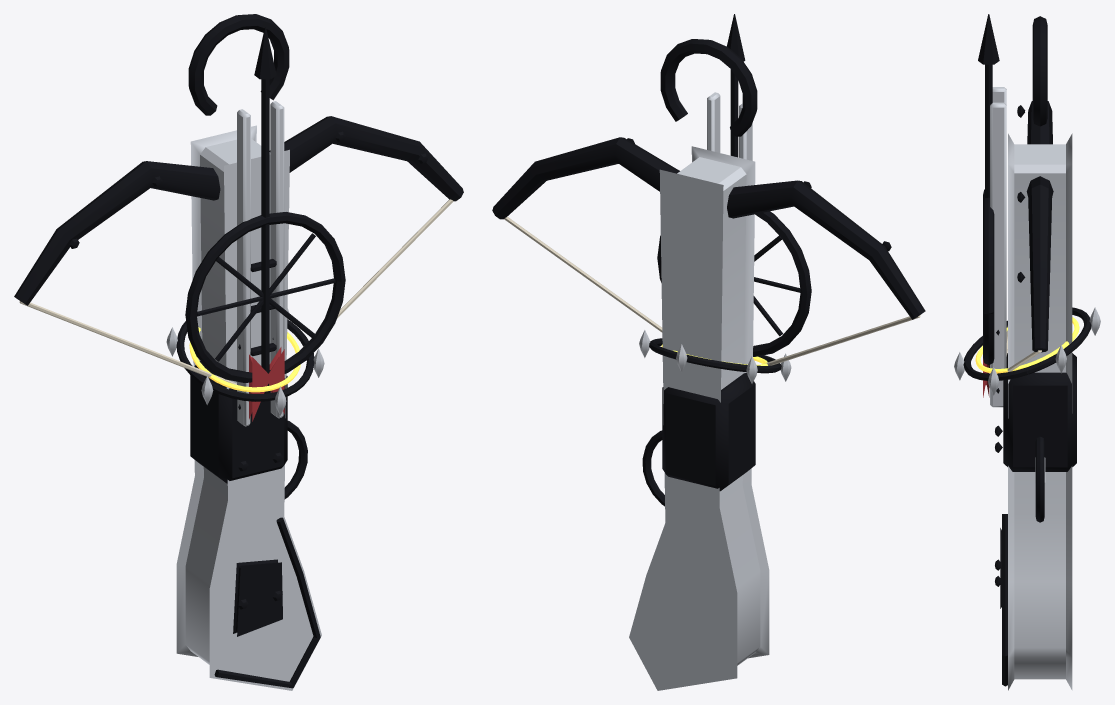
Rendered from esc_w_ranger_crossbow_6.glb.
3 renders of one model, left to right at view 1: azimuth 30°, elevation 25°; view 2: azimuth 150°, elevation 25°; view 3: azimuth 270°, elevation 25°, orthographic. The views are drawn at different scales.
Visible parts, largest first — view 1: esc_w_ranger_crossbow_6; view 2: esc_w_ranger_crossbow_6; view 3: esc_w_ranger_crossbow_6.
Part boxes in pixels (x1,y1,x2,y2): esc_w_ranger_crossbow_6: [14, 14, 463, 690]; esc_w_ranger_crossbow_6: [492, 14, 925, 690]; esc_w_ranger_crossbow_6: [954, 14, 1100, 690].
Size of the model in its own units: 0.7799 by 1.13 by 0.2285.
